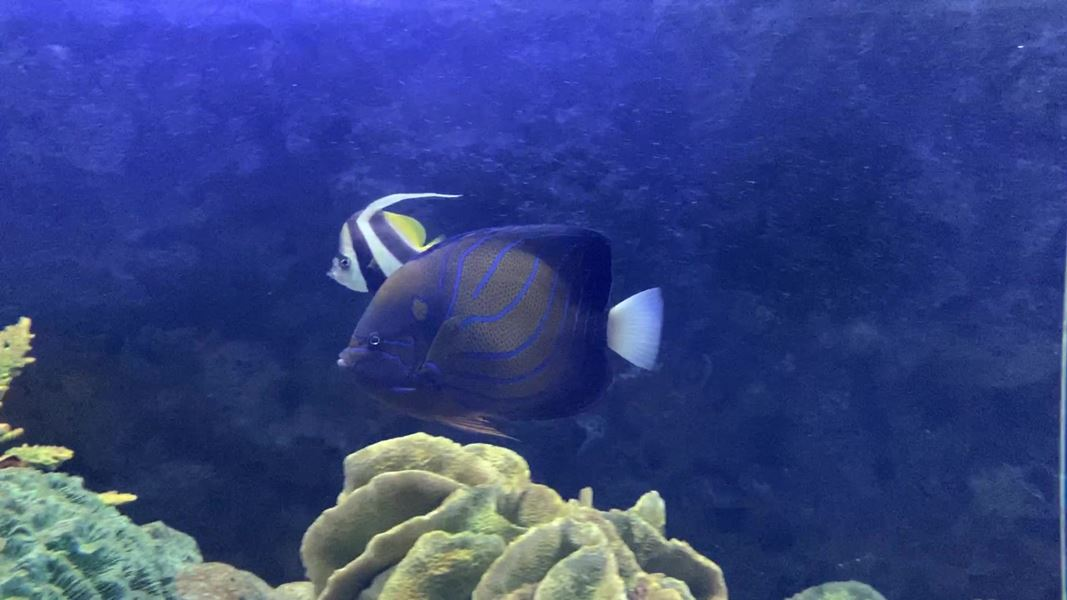Blue ring angelfish: (312, 216, 692, 457)
